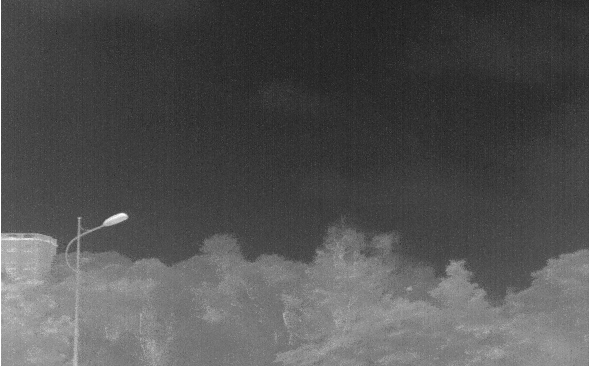dim target: (404, 285, 413, 291)
